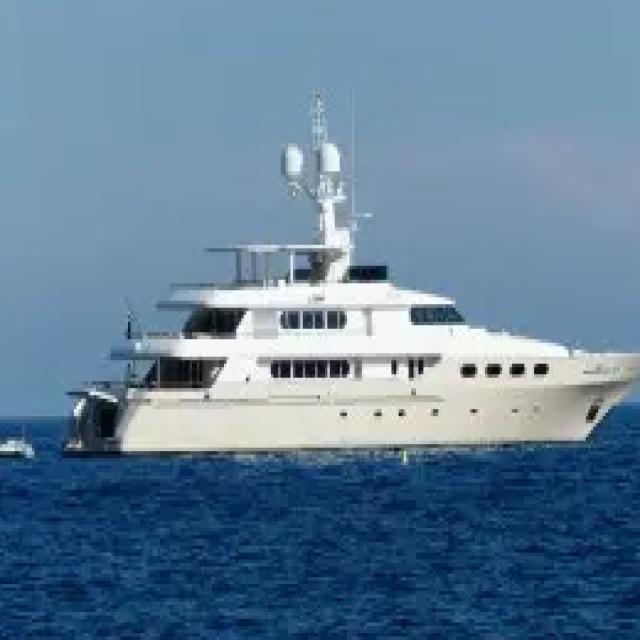houseboat: (72, 110, 640, 470)
